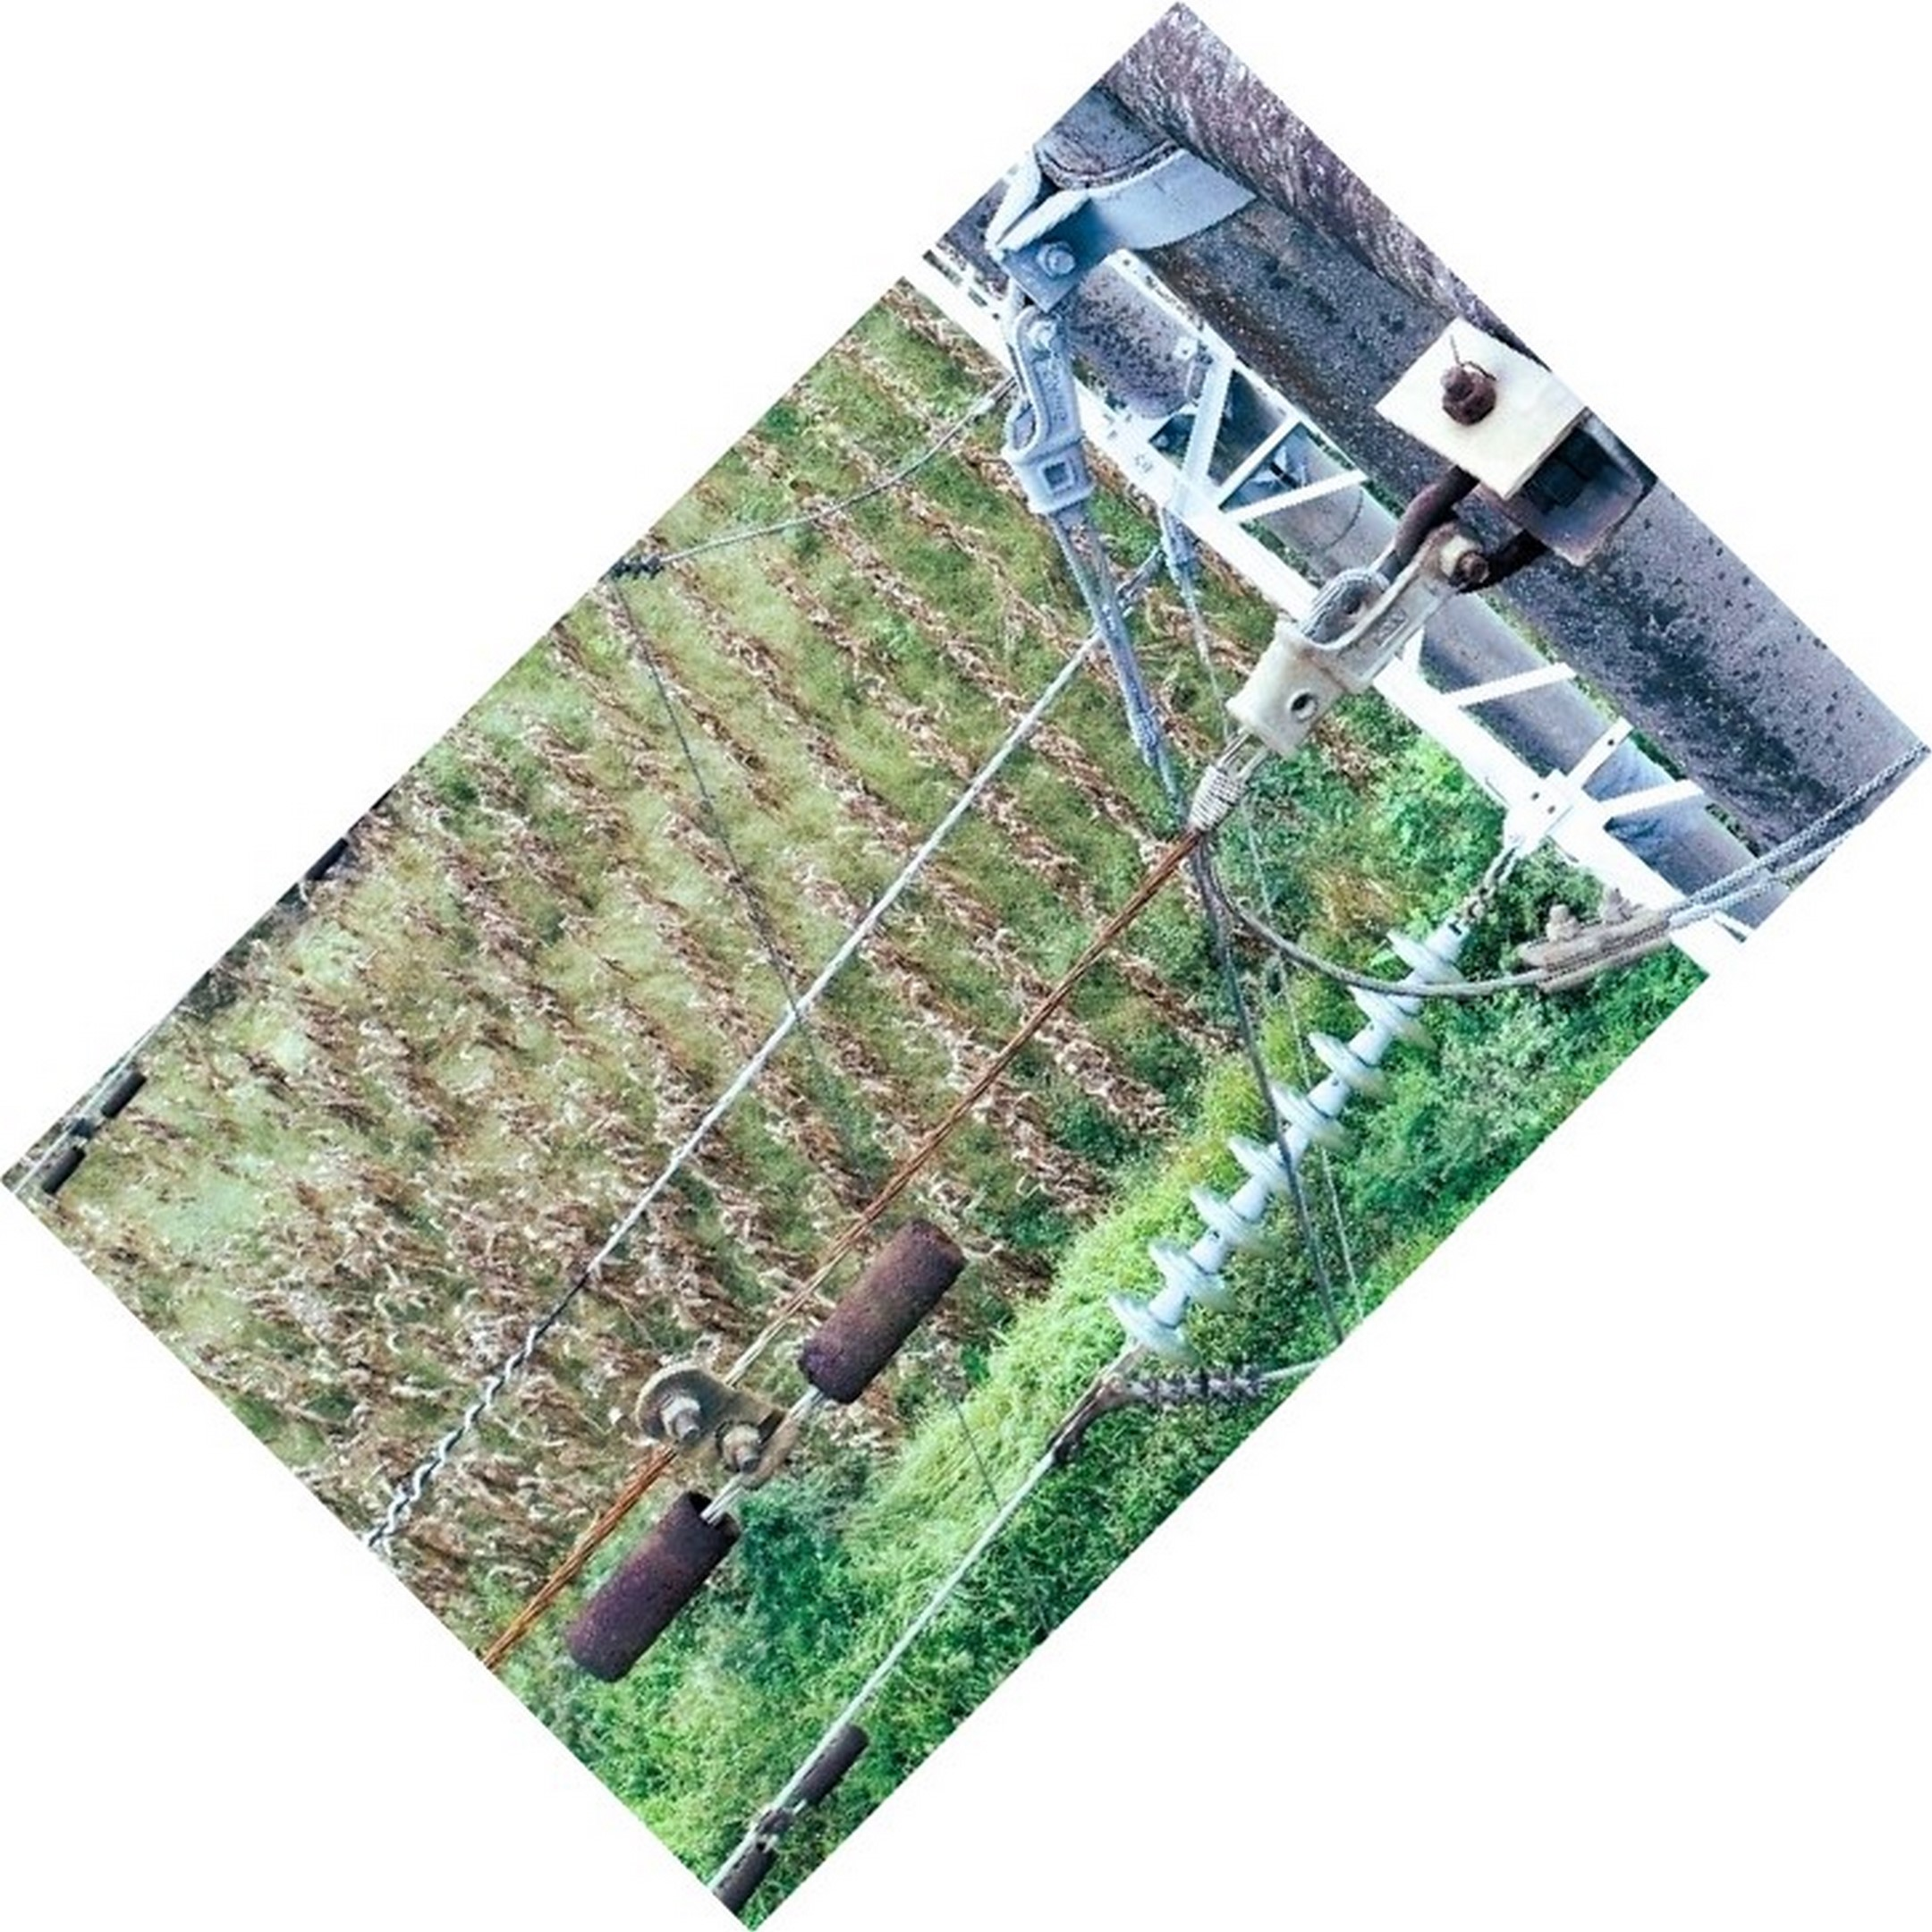Shockproof hammer: (543, 1192, 994, 1683)
